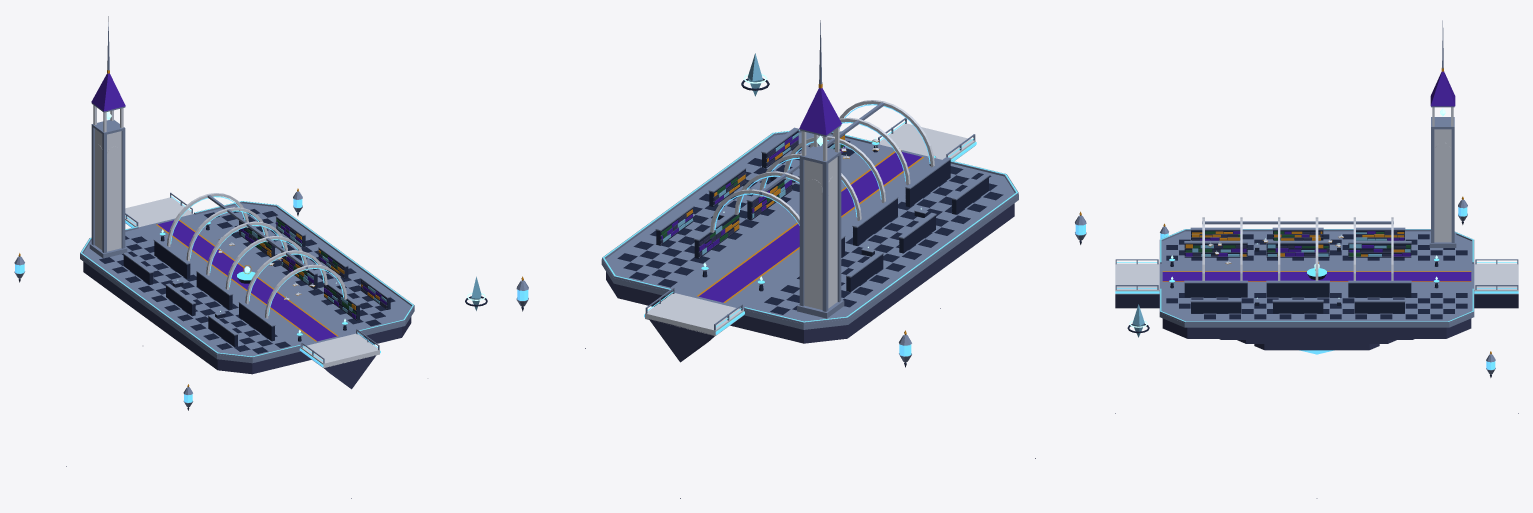
The model's file is chunk_archive.fbx.
The picture shows the model from 3 angles, left to right: view 1: azimuth 30°, elevation 25°; view 2: azimuth 150°, elevation 25°; view 3: azimuth 270°, elevation 25°; orthographic projection. The views are drawn at different scales.
Parts seen in each view (by area): view 1: chunk_archive; view 2: chunk_archive; view 3: chunk_archive.
Boxes of the visible parts, <box> form: chunk_archive: <box>14,16,487,498</box>; chunk_archive: <box>516,20,1086,498</box>; chunk_archive: <box>1115,20,1518,498</box>.
Size of the model in its own units: 256 by 256 by 256.
